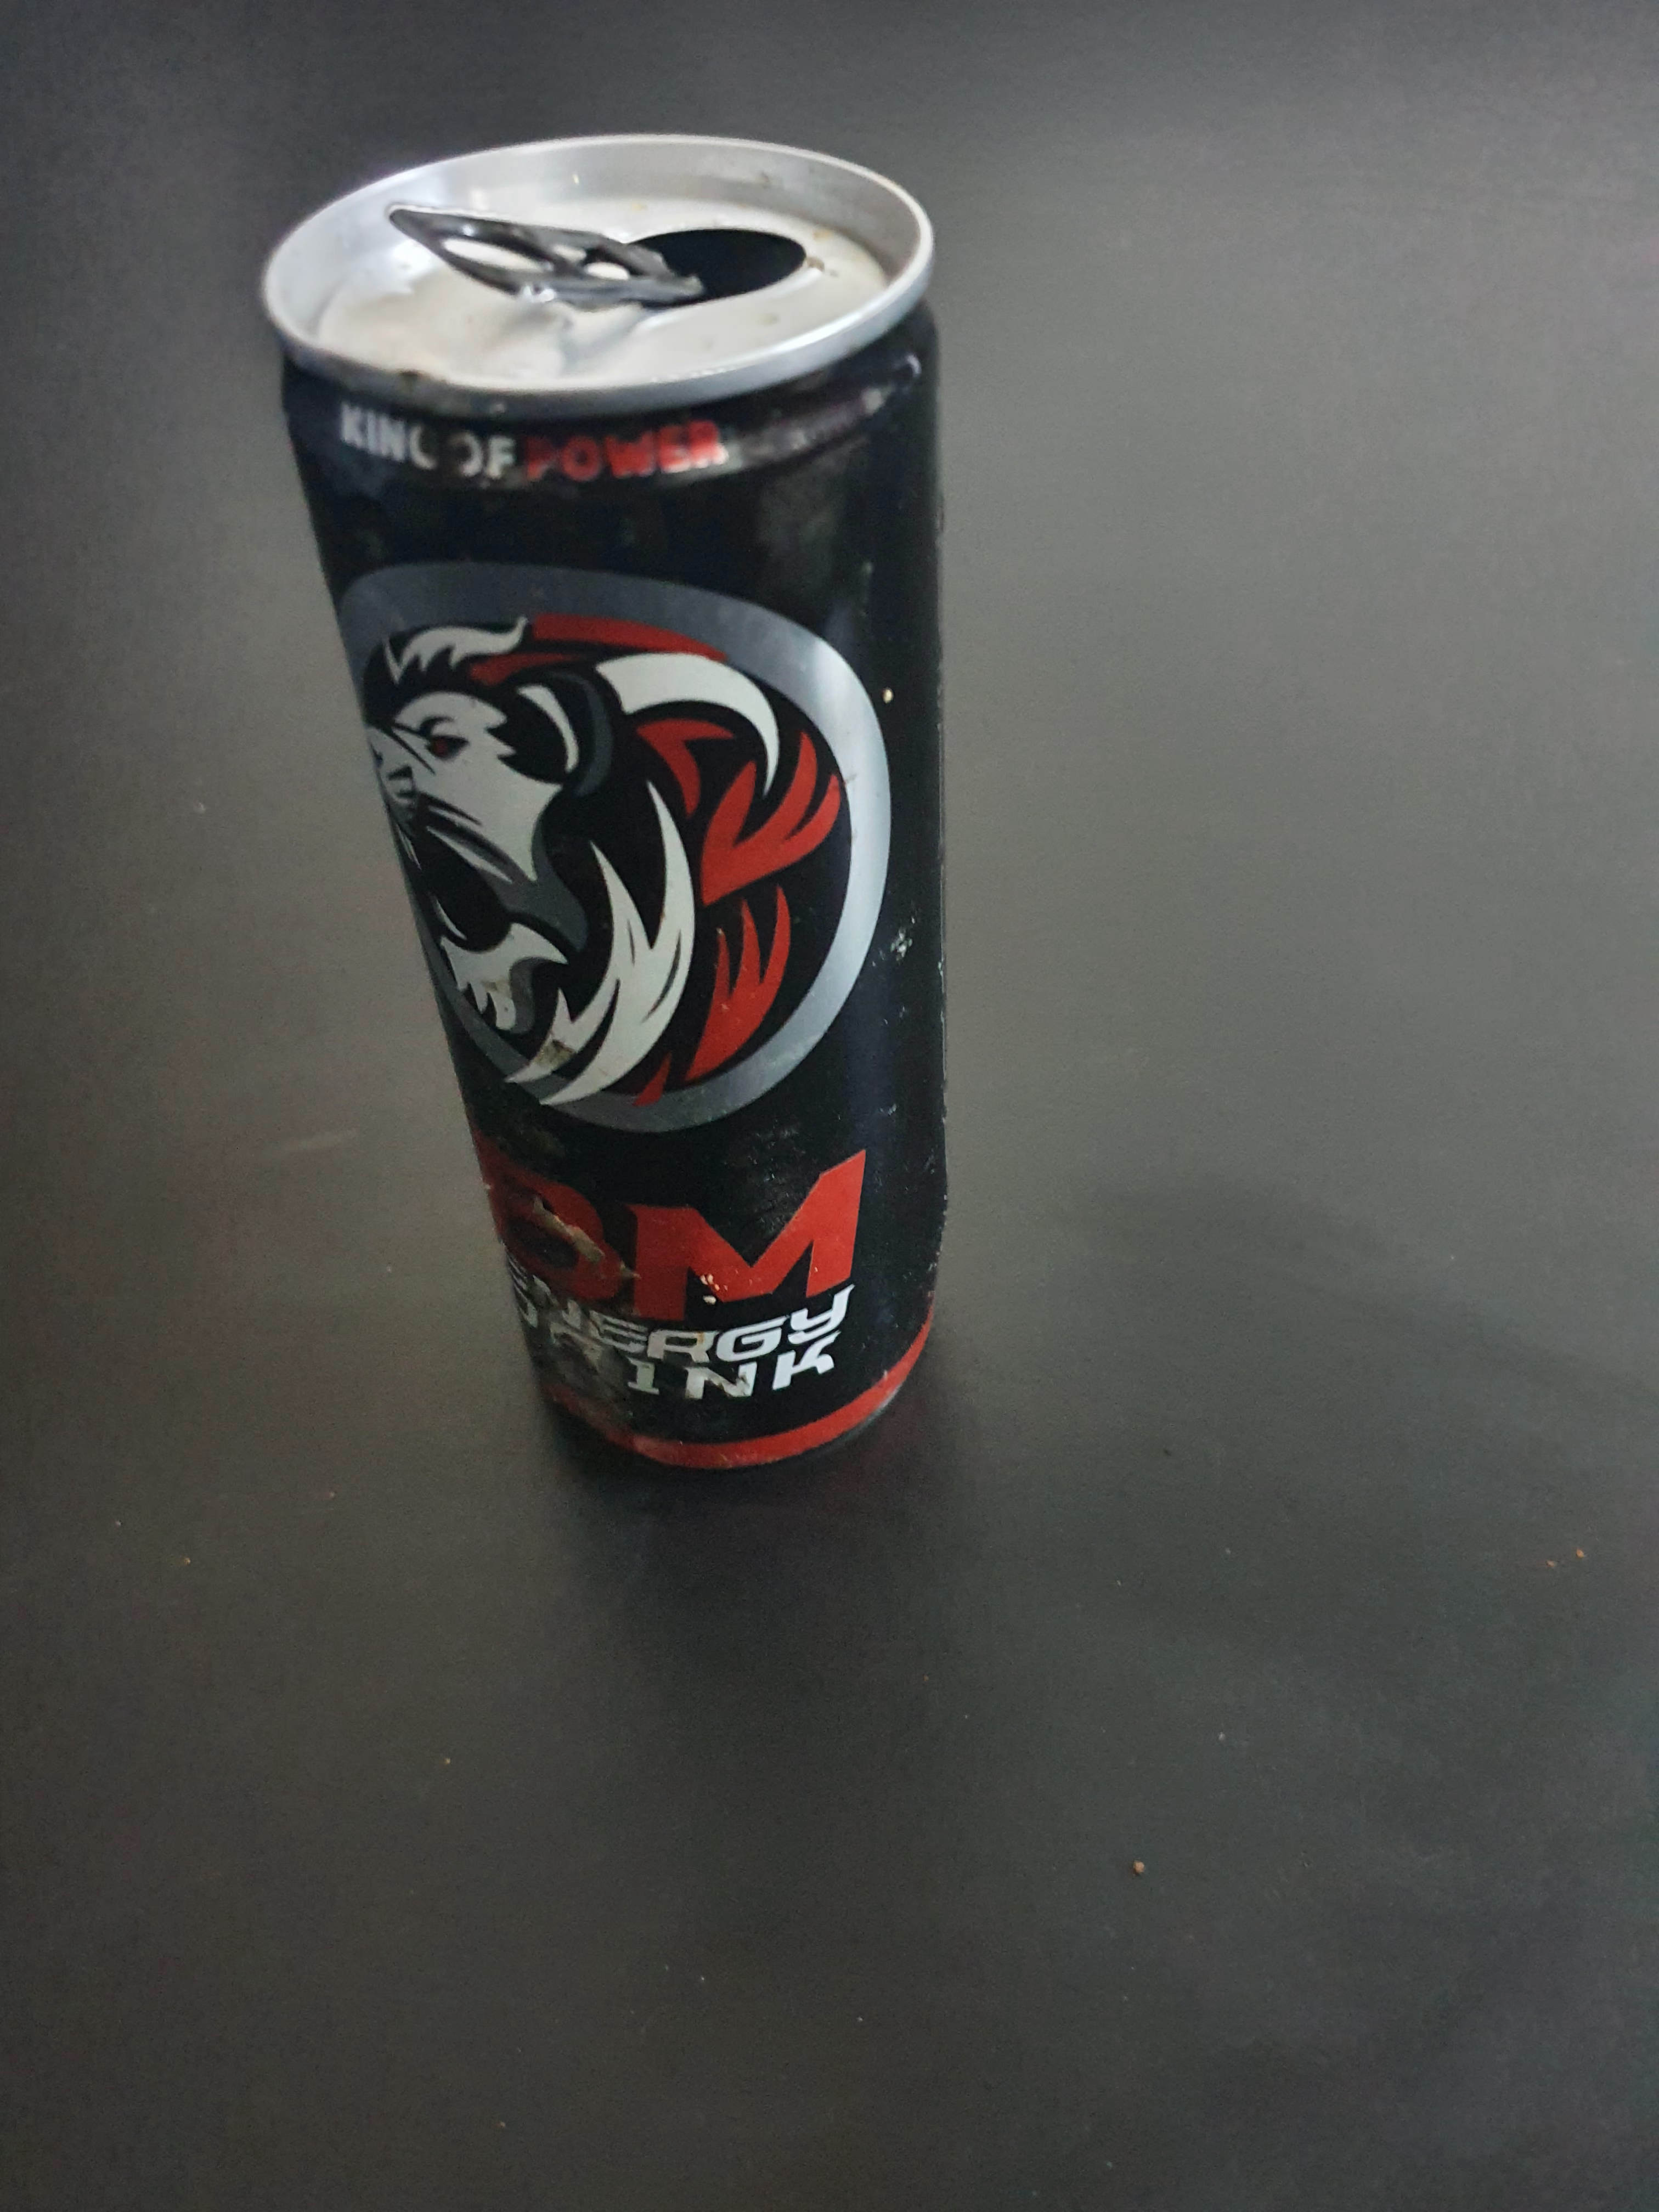metal: (218, 92, 1053, 1559)
